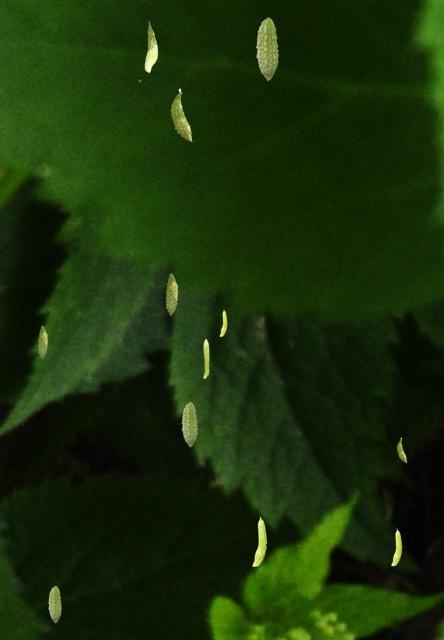ampalaya: (255, 17, 279, 81), (170, 88, 192, 142), (181, 401, 198, 447), (252, 516, 267, 567), (144, 20, 158, 73), (165, 273, 178, 315), (48, 585, 62, 623), (390, 528, 402, 566), (37, 325, 48, 358), (396, 437, 407, 463), (203, 338, 209, 378), (219, 309, 227, 336)
